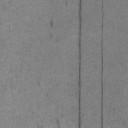surface scratch: (77, 0, 82, 128), (100, 0, 104, 128)
